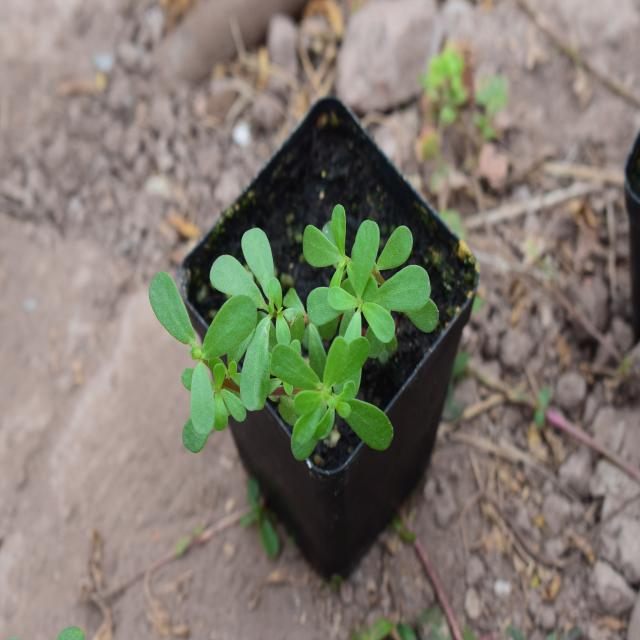purslane: (165, 190, 418, 461)
